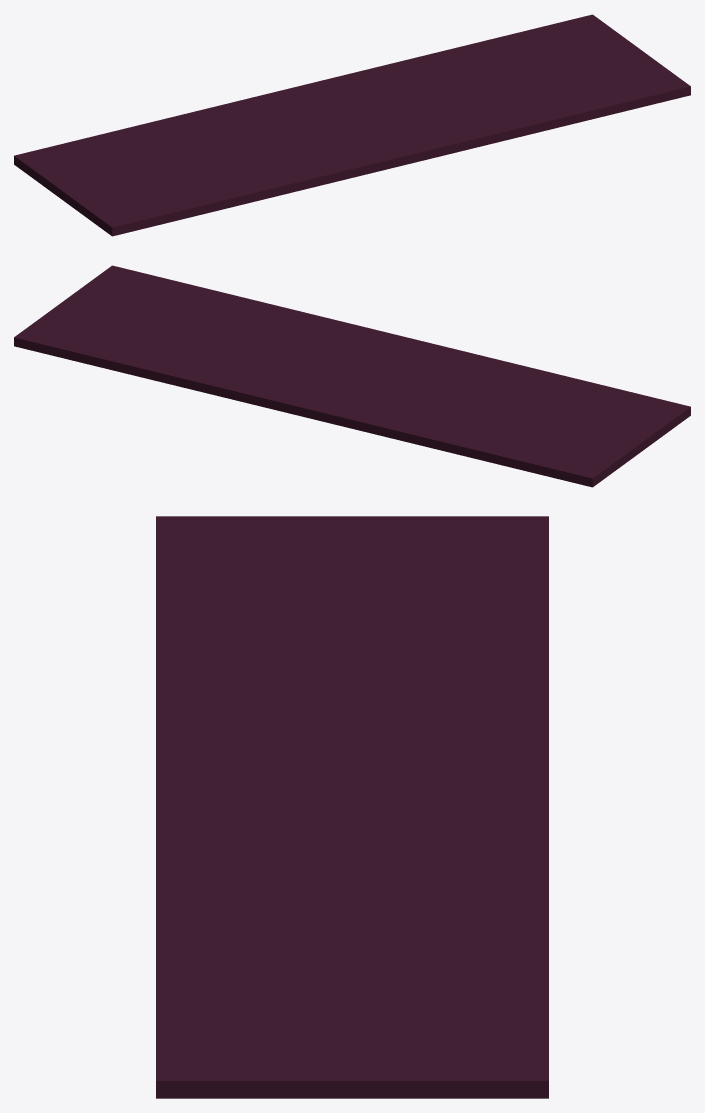
Rendered from road.fbx.
3 renders of one model, top to bottom at view 1: azimuth 30°, elevation 25°; view 2: azimuth 150°, elevation 25°; view 3: azimuth 270°, elevation 25°, orthographic. The views are drawn at different scales.
Visible parts, largest first — view 1: mergedBlocks; view 2: mergedBlocks; view 3: mergedBlocks.
Boxes of the visible parts, x1,y1,x2,y2 form: mergedBlocks: (14, 14, 690, 236); mergedBlocks: (14, 265, 690, 487); mergedBlocks: (156, 516, 548, 1098).
Size of the model in its own units: 136 by 2 by 40.
